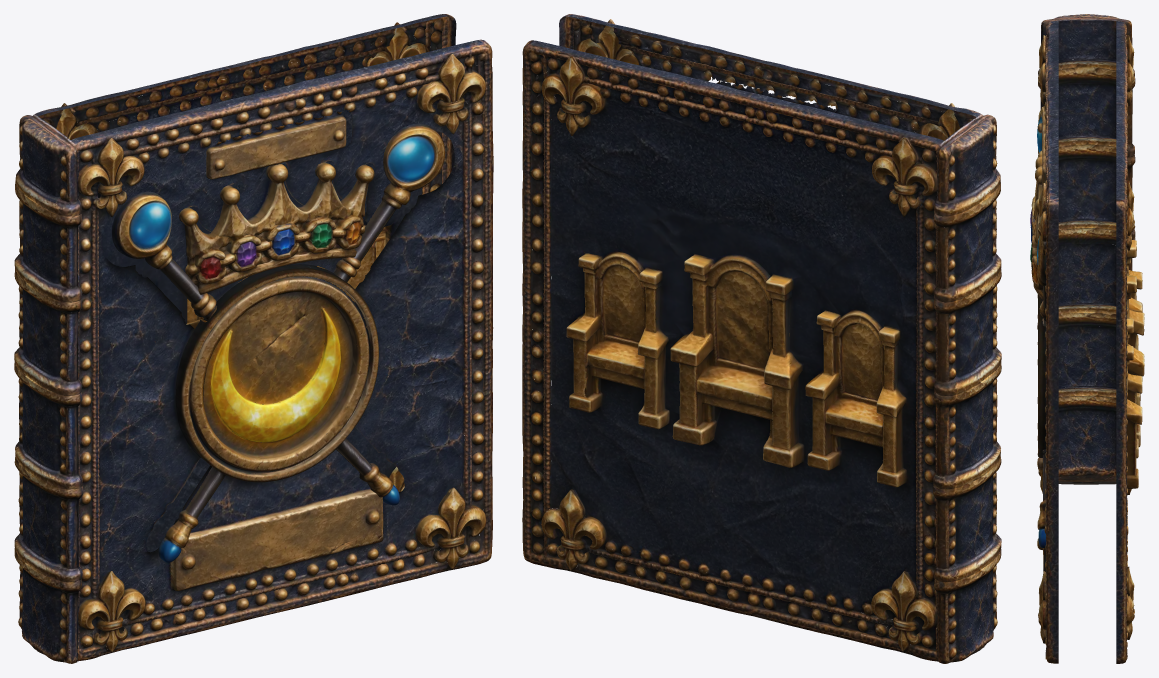
File: kings2.glb
3 renders of one model, left to right at view 1: azimuth 30°, elevation 25°; view 2: azimuth 150°, elevation 25°; view 3: azimuth 270°, elevation 25°, orthographic. The views are drawn at different scales.
Visible parts, largest first — view 1: F_cover, S_spine, B_cover, F_crown, F_moon, F_plateT, F_ring_hi, FK_p16, FK_p18, FK_p17, F_ring_lo, FK_p43 (+10 smaller); view 2: B_cover, S_spine, F_cover, BK_p39, BK_p41, BK_p11, BK_p42, FK_p17, FK_p43; view 3: S_spine, B_cover, F_cover, F_crown, F_ring_hi, F_staffL_lo, FK_p17, F_ring_lo, FK_p16, BK_p39, FK_p43, BK_p42 (+3 smaller).
Part boxes in pixels (x1=…): F_cover: x1=71, y1=39, x2=493, y2=661; S_spine: x1=14, y1=114, x2=81, y2=663; B_cover: x1=34, y1=14, x2=456, y2=552; F_crown: x1=179, y1=162, x2=374, y2=294; F_moon: x1=204, y1=307, x2=341, y2=442; F_plateT: x1=206, y1=110, x2=346, y2=182; F_ring_hi: x1=175, y1=264, x2=378, y2=400; FK_p16: x1=416, y1=487, x2=486, y2=569; FK_p18: x1=78, y1=571, x2=145, y2=652; FK_p17: x1=417, y1=54, x2=485, y2=134; F_ring_lo: x1=175, y1=352, x2=378, y2=482; FK_p43: x1=77, y1=138, x2=148, y2=216; B_cover: x1=522, y1=40, x2=943, y2=661; S_spine: x1=934, y1=114, x2=1001, y2=663; F_cover: x1=559, y1=14, x2=983, y2=515; BK_p39: x1=541, y1=489, x2=643, y2=577; BK_p41: x1=871, y1=571, x2=937, y2=652; BK_p11: x1=872, y1=137, x2=938, y2=216; BK_p42: x1=536, y1=56, x2=608, y2=135; FK_p17: x1=574, y1=19, x2=638, y2=85; FK_p43: x1=913, y1=103, x2=960, y2=140; S_spine: x1=1037, y1=14, x2=1135, y2=484; B_cover: x1=1116, y1=21, x2=1144, y2=663; F_cover: x1=1037, y1=21, x2=1058, y2=663; F_crown: x1=1030, y1=150, x2=1043, y2=299; F_ring_hi: x1=1037, y1=294, x2=1046, y2=398; F_staffL_lo: x1=1037, y1=452, x2=1046, y2=547; FK_p17: x1=1038, y1=183, x2=1047, y2=254; F_ring_lo: x1=1037, y1=398, x2=1046, y2=457; FK_p16: x1=1038, y1=571, x2=1046, y2=643; BK_p39: x1=1126, y1=566, x2=1134, y2=639; FK_p43: x1=1038, y1=35, x2=1048, y2=105; BK_p42: x1=1125, y1=180, x2=1135, y2=250.
Size of the model in its own units: 0.8713 by 0.9784 by 0.2178.
Materials: 1 (1 with a texture image).
